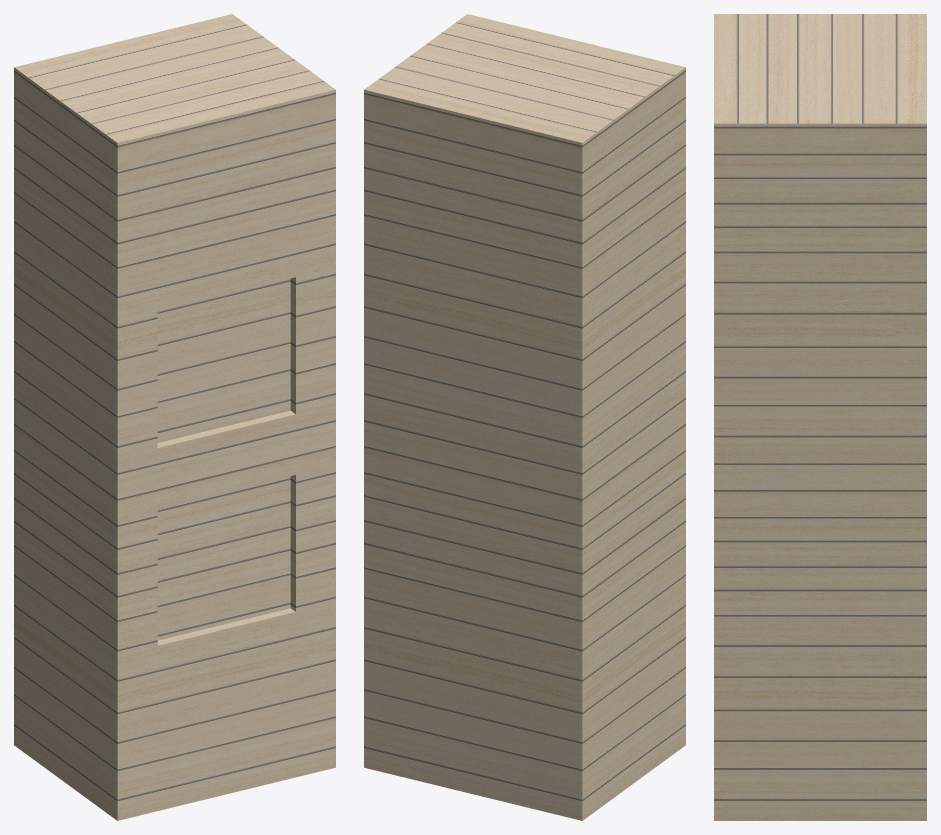
File: Gallery_Pillar03.FBX
The picture shows the model from 3 angles, left to right: view 1: azimuth 30°, elevation 25°; view 2: azimuth 150°, elevation 25°; view 3: azimuth 270°, elevation 25°; orthographic projection. The views are drawn at different scales.
Parts seen in each view (by area): view 1: Gallery_Pillar03; view 2: Gallery_Pillar03; view 3: Gallery_Pillar03.
Boxes of the visible parts, left/top/right/bottom form: Gallery_Pillar03: left=14, top=14, right=335, bottom=820; Gallery_Pillar03: left=364, top=14, right=685, bottom=820; Gallery_Pillar03: left=714, top=14, right=926, bottom=820.
Bounding box in the file's own units: 59.06 × 48.43 × 175.
